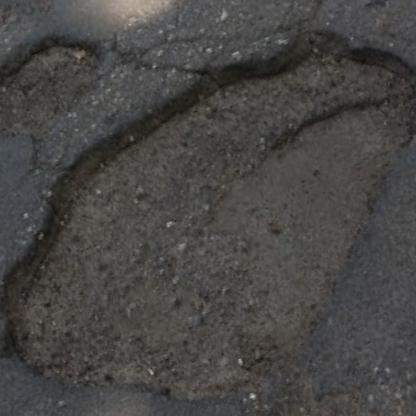pothole: (0, 0, 416, 416), (0, 17, 120, 160)
